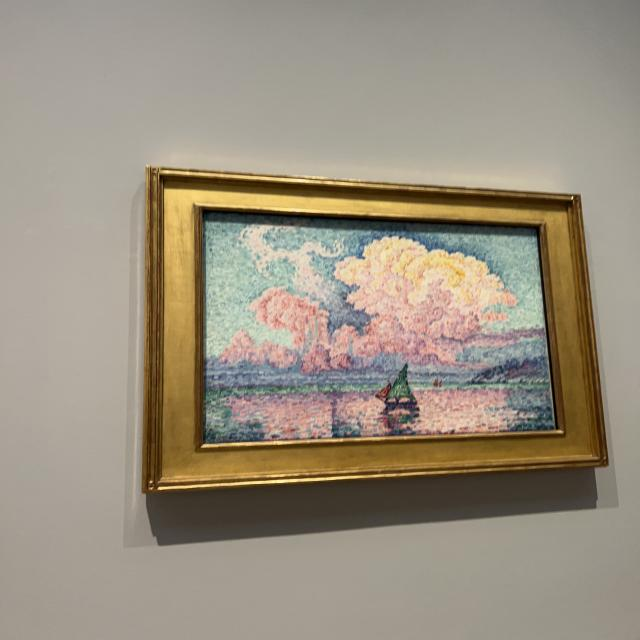sunrise: (211, 226, 549, 440)
